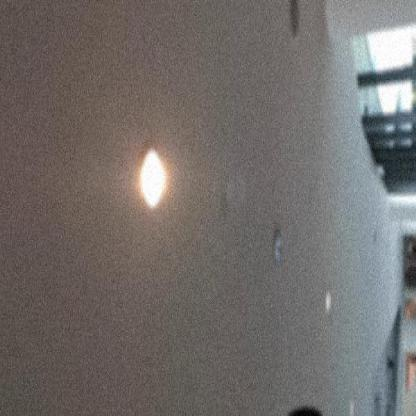light_on: (132, 125, 170, 222), (320, 281, 334, 320)
